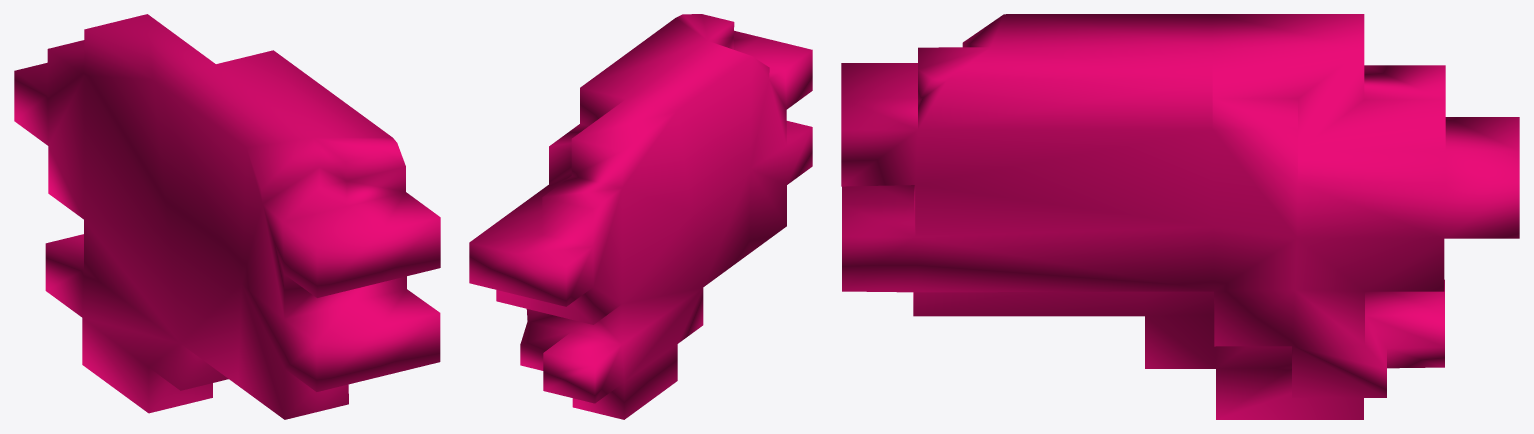
File: Brick_Break_02_Lod0.fbx
3 views of the same model, side by side, from view 1: azimuth 30°, elevation 25°; view 2: azimuth 150°, elevation 25°; view 3: azimuth 270°, elevation 25° (orthographic). The views are drawn at different scales.
Visible parts, largest first — view 1: Brick_Break_02_Lod0; view 2: Brick_Break_02_Lod0; view 3: Brick_Break_02_Lod0.
Boxes of the visible parts, x1=… form: Brick_Break_02_Lod0: x1=14, y1=14, x2=440, y2=419; Brick_Break_02_Lod0: x1=469, y1=14, x2=812, y2=419; Brick_Break_02_Lod0: x1=841, y1=14, x2=1519, y2=419.
Size of the model in its own units: 20.79 by 53.41 by 88.22.
